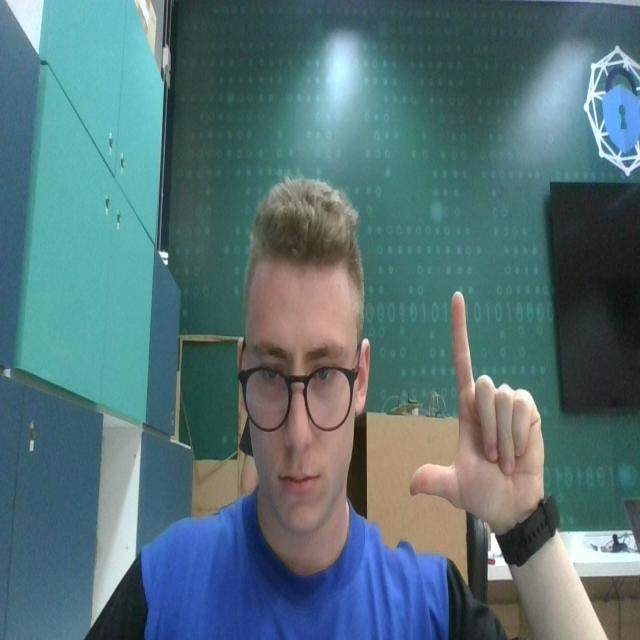L: (407, 288, 550, 524)
